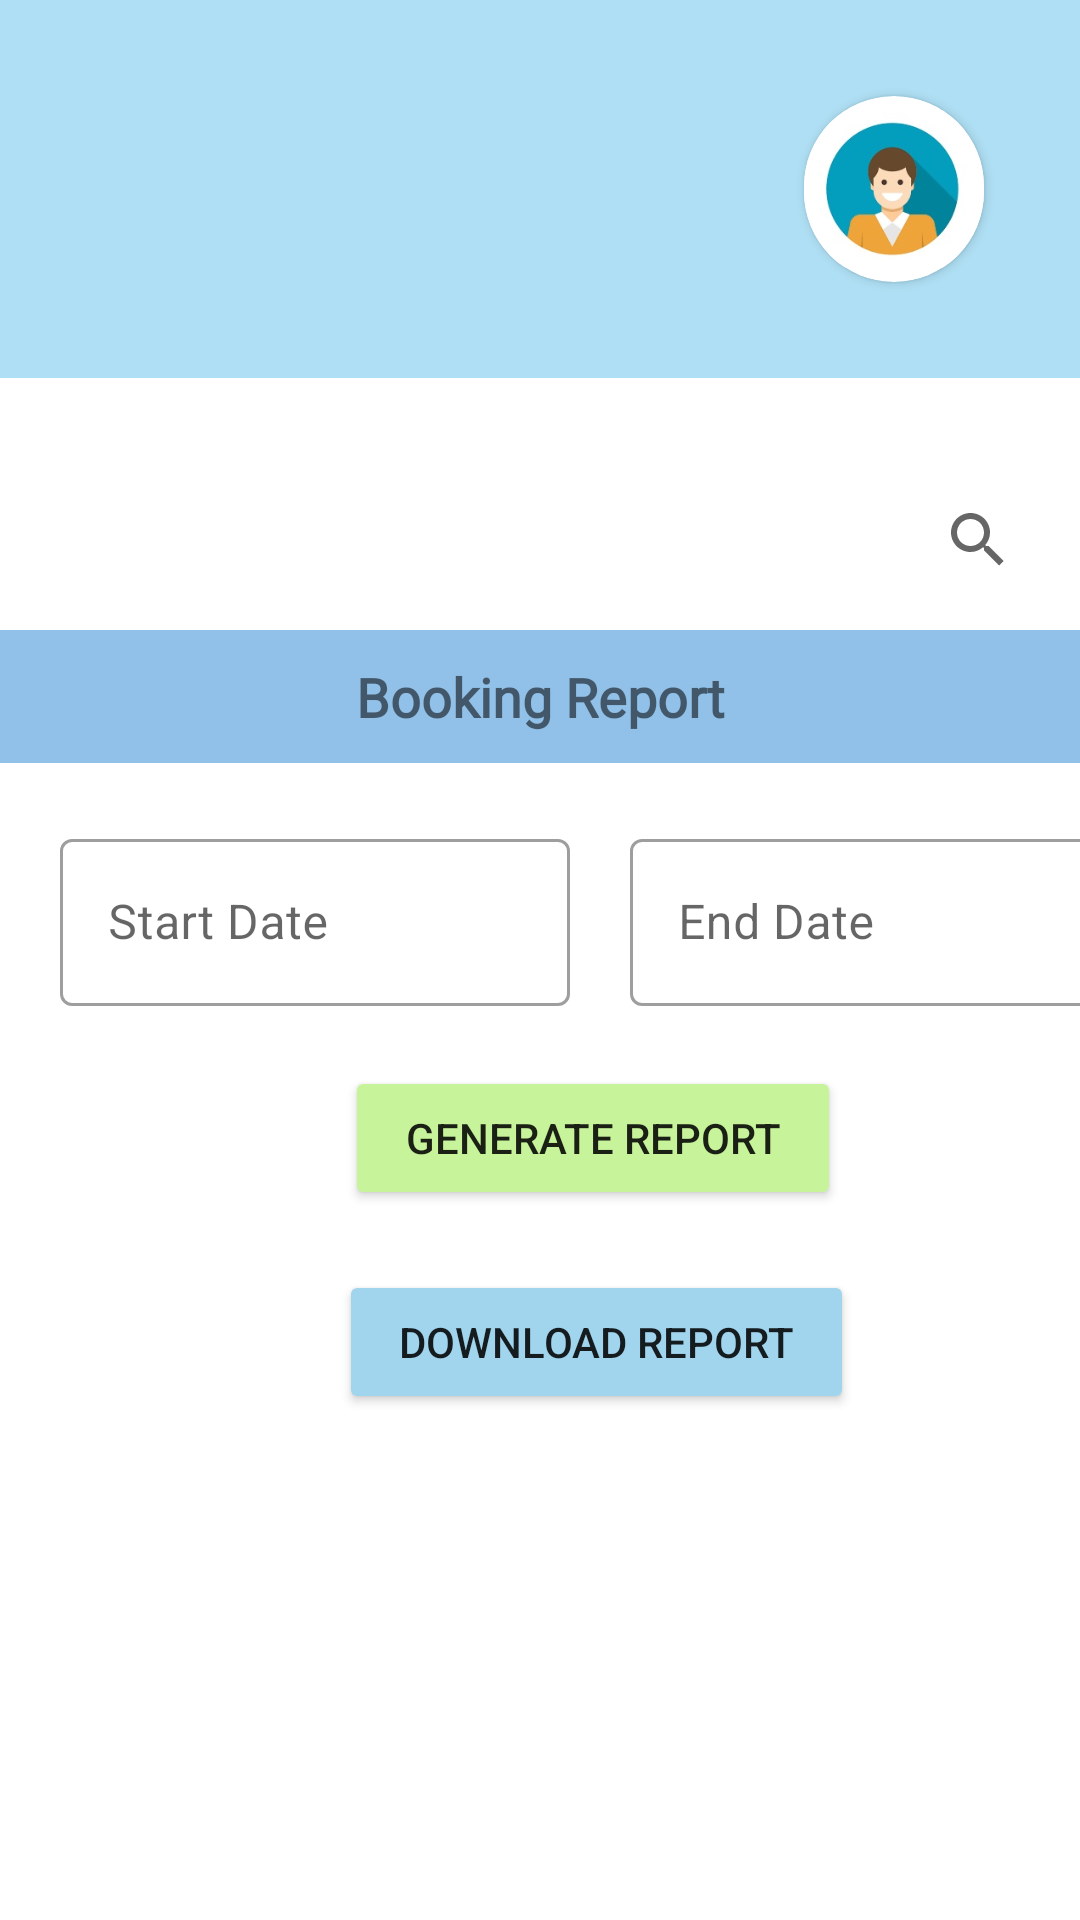

Where icons sit on this 1080 × 1920 app screen, as (x1, y1, x2, y2):
user: (804, 96, 984, 282)
